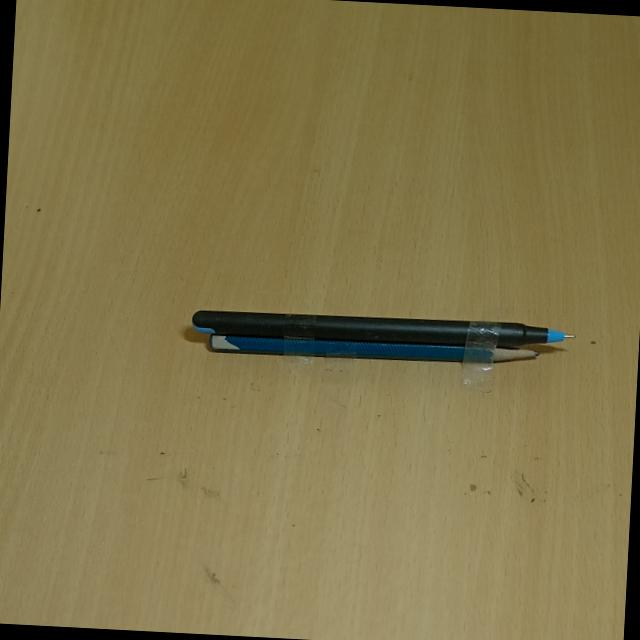pen: (178, 294, 590, 350)
pencil: (191, 332, 566, 380)
